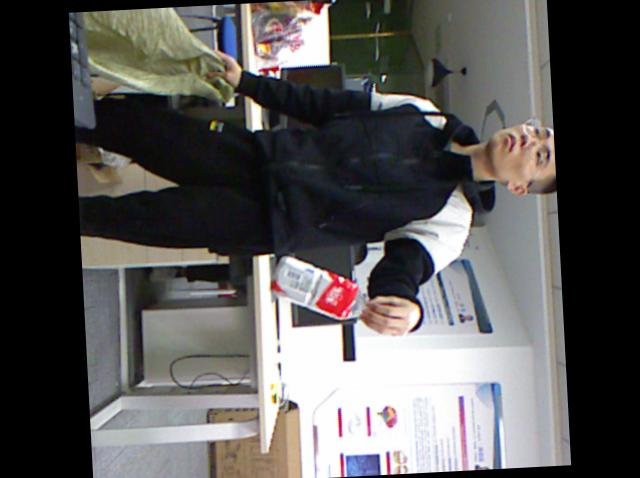cardboard paper: (208, 407, 301, 478)
plastic: (271, 256, 364, 318)
